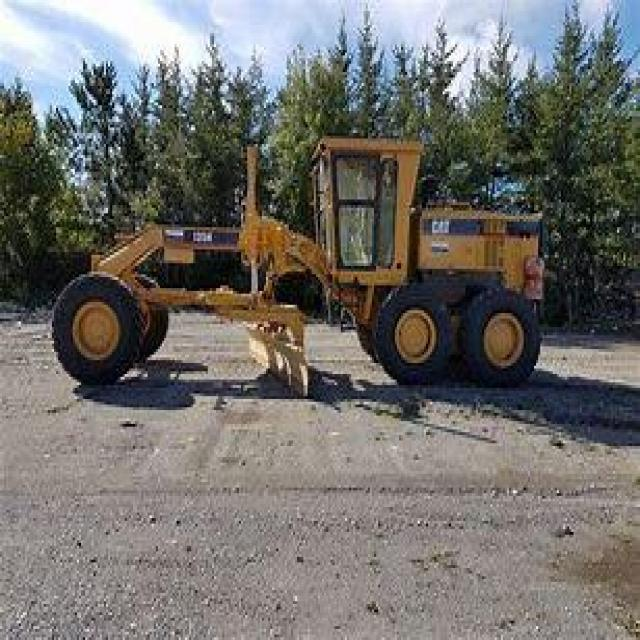Grader: (40, 114, 561, 402)
